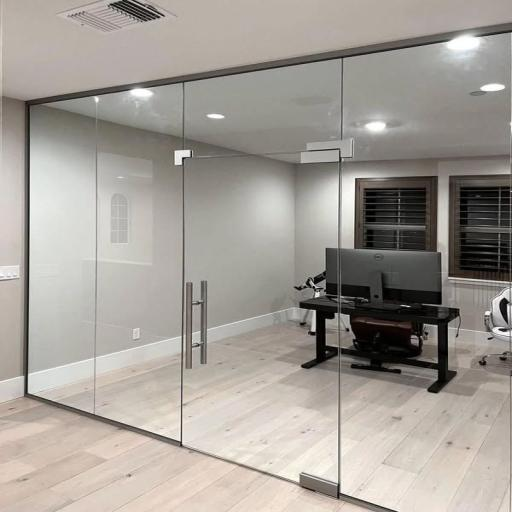corridor: (163, 146, 341, 496)
elevator: (26, 18, 511, 512)
stroller: (300, 287, 468, 397)
